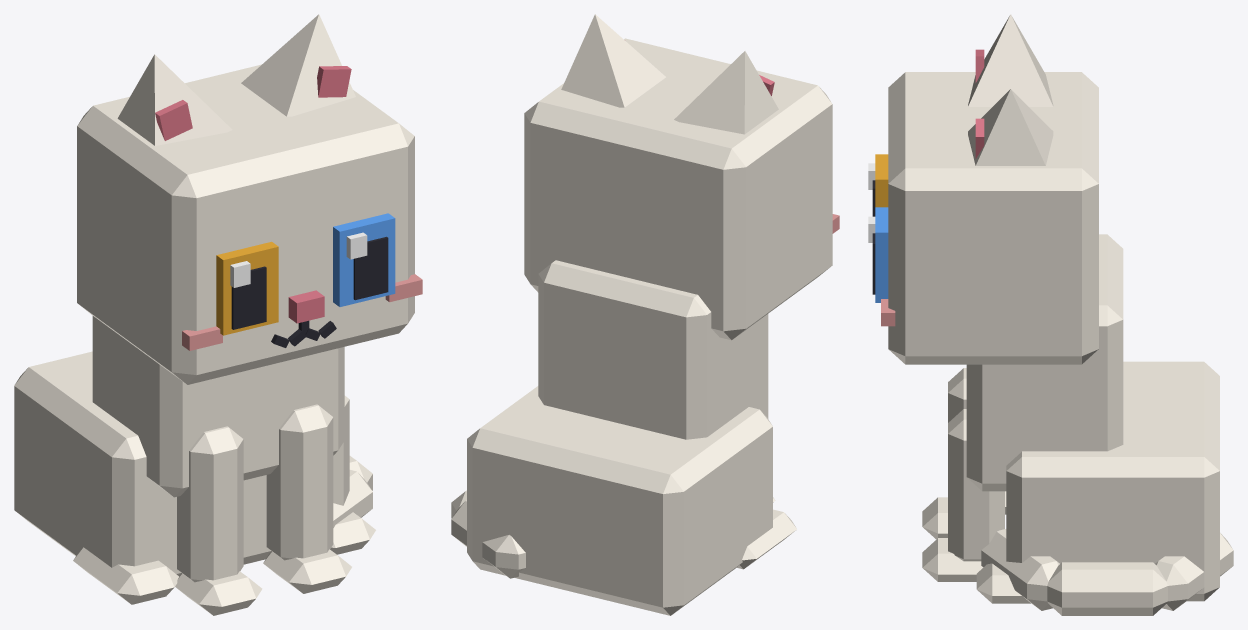
File: CatCafe_Cat_Snow_Sit.glb
The picture shows the model from 3 angles, left to right: view 1: azimuth 30°, elevation 25°; view 2: azimuth 150°, elevation 25°; view 3: azimuth 270°, elevation 25°; orthographic projection. The views are drawn at different scales.
Parts seen in each view (by area): view 1: CatCafe_Cat_Snow_Sit_Head, CatCafe_Cat_Snow_Sit_Body, CatCafe_Cat_Snow_Sit_LegF1, CatCafe_Cat_Snow_Sit_LegF2, CatCafe_Cat_Snow_Sit_EarL, CatCafe_Cat_Snow_Sit_EarR, CatCafe_Cat_Snow_Sit_Eye1, CatCafe_Cat_Snow_Sit_Eye2, CatCafe_Cat_Snow_Sit_Tail; view 2: CatCafe_Cat_Snow_Sit_Body, CatCafe_Cat_Snow_Sit_Head, CatCafe_Cat_Snow_Sit_EarL, CatCafe_Cat_Snow_Sit_EarR, CatCafe_Cat_Snow_Sit_Tail; view 3: CatCafe_Cat_Snow_Sit_Head, CatCafe_Cat_Snow_Sit_Body, CatCafe_Cat_Snow_Sit_Tail, CatCafe_Cat_Snow_Sit_LegF1, CatCafe_Cat_Snow_Sit_EarL, CatCafe_Cat_Snow_Sit_EarR, CatCafe_Cat_Snow_Sit_LegF2, CatCafe_Cat_Snow_Sit_Eye1, CatCafe_Cat_Snow_Sit_Eye2.
Part boxes in pixels (x1,y1,x2,y2): CatCafe_Cat_Snow_Sit_Head: (77,64,422,384); CatCafe_Cat_Snow_Sit_Body: (14,316,375,604); CatCafe_Cat_Snow_Sit_LegF1: (263,404,351,593); CatCafe_Cat_Snow_Sit_LegF2: (175,426,262,615); CatCafe_Cat_Snow_Sit_EarL: (241,14,355,116); CatCafe_Cat_Snow_Sit_EarR: (117,54,232,145); CatCafe_Cat_Snow_Sit_Eye1: (333,213,395,306); CatCafe_Cat_Snow_Sit_Eye2: (216,241,278,335); CatCafe_Cat_Snow_Sit_Tail: (333,456,372,527); CatCafe_Cat_Snow_Sit_Body: (467,260,796,615); CatCafe_Cat_Snow_Sit_Head: (524,38,839,340); CatCafe_Cat_Snow_Sit_EarL: (561,14,665,107); CatCafe_Cat_Snow_Sit_EarR: (674,51,778,134); CatCafe_Cat_Snow_Sit_Tail: (451,490,525,578); CatCafe_Cat_Snow_Sit_Head: (881,72,1098,364); CatCafe_Cat_Snow_Sit_Body: (966,234,1219,603); CatCafe_Cat_Snow_Sit_Tail: (981,529,1233,615); CatCafe_Cat_Snow_Sit_LegF1: (922,409,1004,581); CatCafe_Cat_Snow_Sit_EarL: (968,89,1053,165); CatCafe_Cat_Snow_Sit_EarR: (968,14,1053,106); CatCafe_Cat_Snow_Sit_LegF2: (922,368,966,539); CatCafe_Cat_Snow_Sit_Eye1: (868,207,888,302); CatCafe_Cat_Snow_Sit_Eye2: (868,154,888,216).
Bounding box in the file's own units: 1.05 × 1.85 × 1.22.
1 material, 1 textured.
